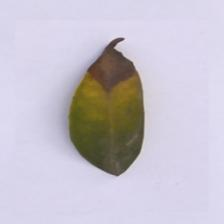black spot: (75, 34, 141, 92)
